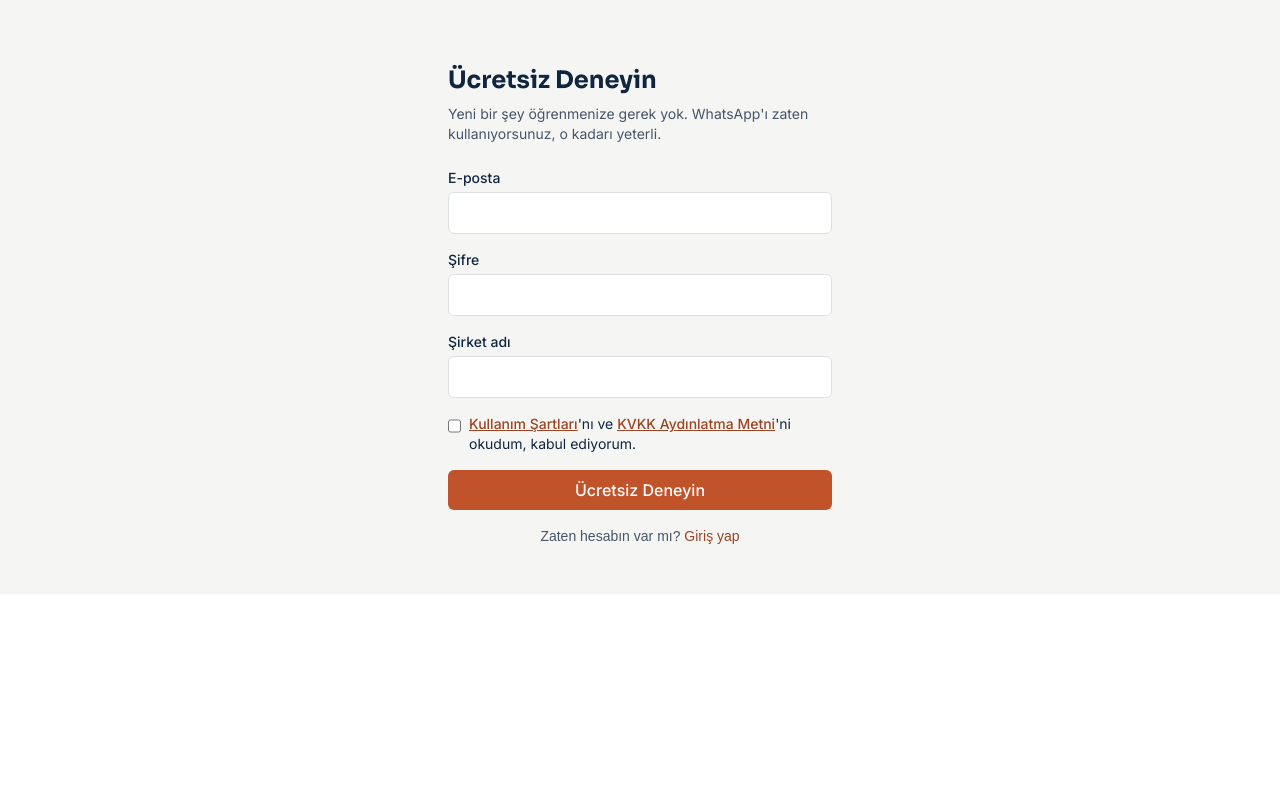
SignupPage — KVKK/Şartlar onay kutusu (AC-2) › şartlar işaretsizken gönderim reddedilir ve hata checkbox'a aria-describedby ile bağlı gösterilir
Type "test@example.com" into the field labelled "E-posta" at point(640, 213), box x1=448 y1=192 x2=832 y2=234
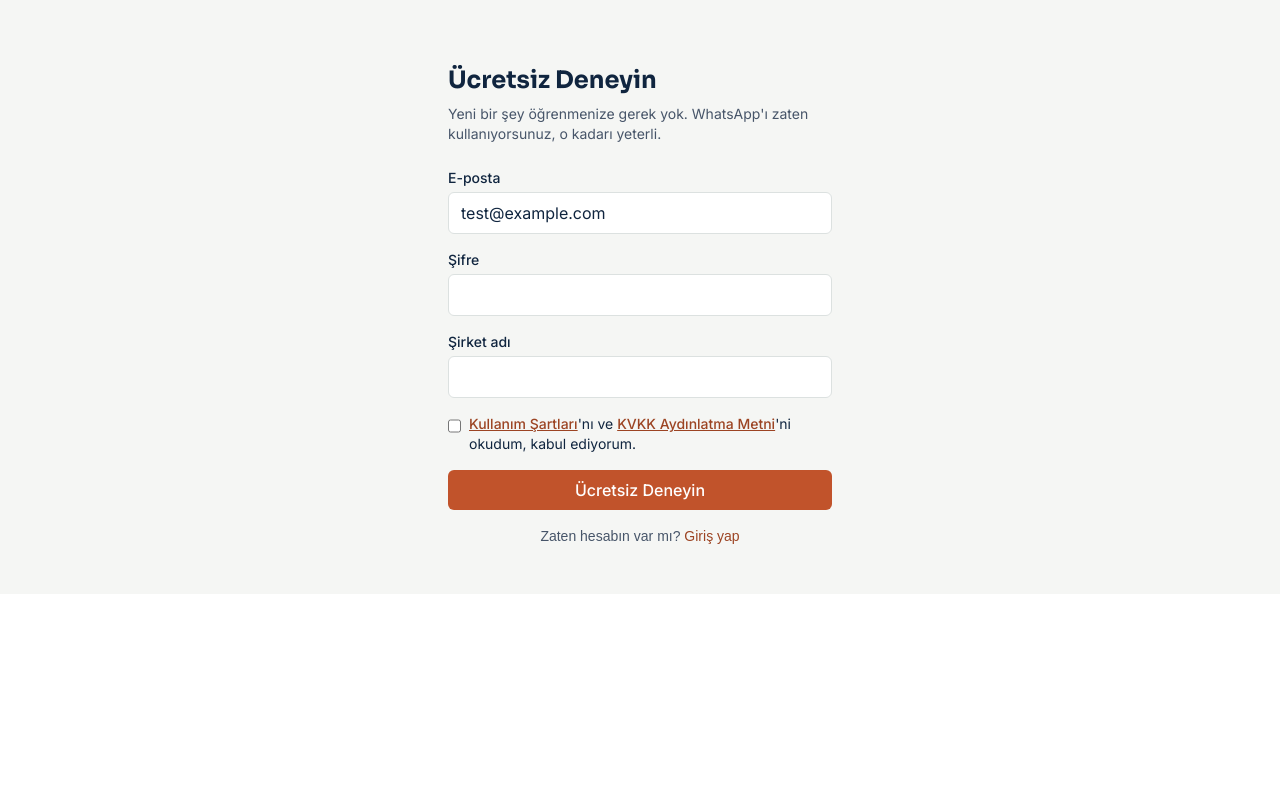
Type "sifre123" into the password field labelled "Şifre" at point(640, 295), box x1=448 y1=274 x2=832 y2=316
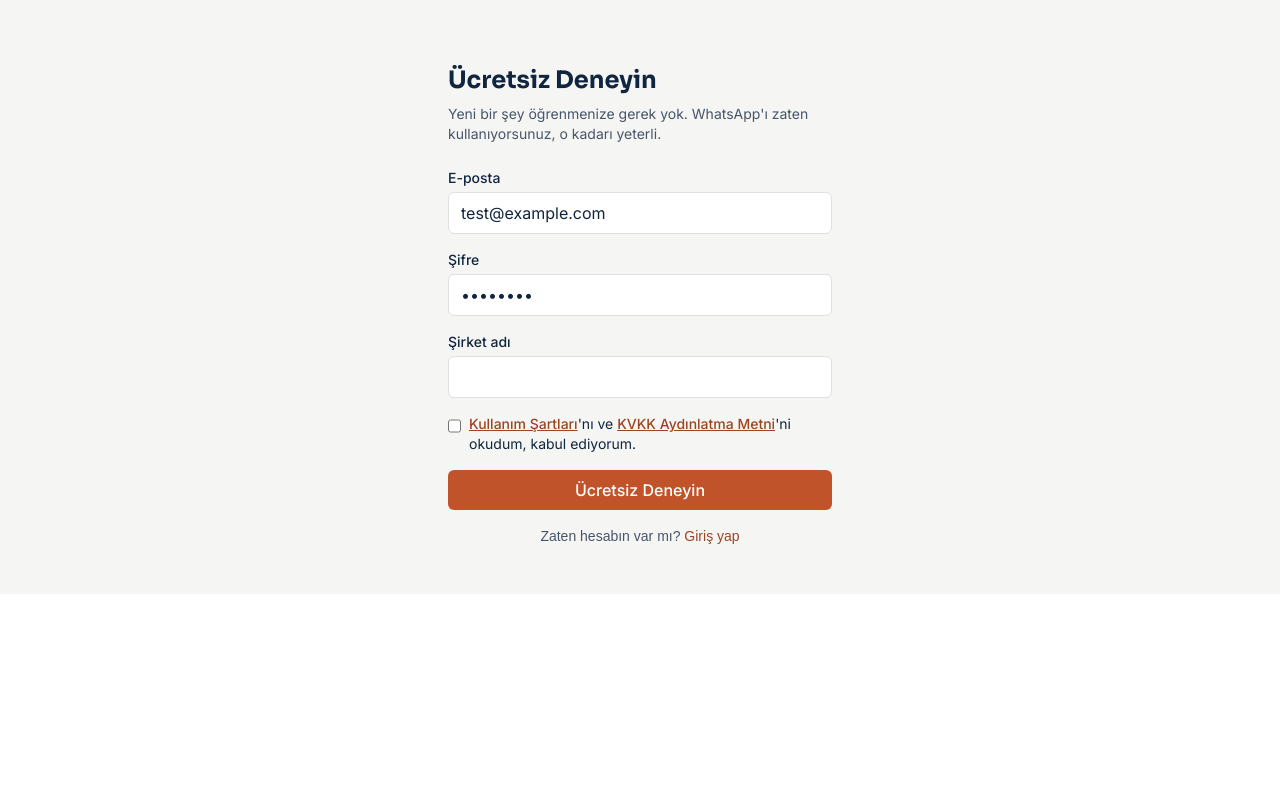
Type "Acme Emlak" into the field labelled "Şirket adı" at point(640, 377), box x1=448 y1=356 x2=832 y2=398
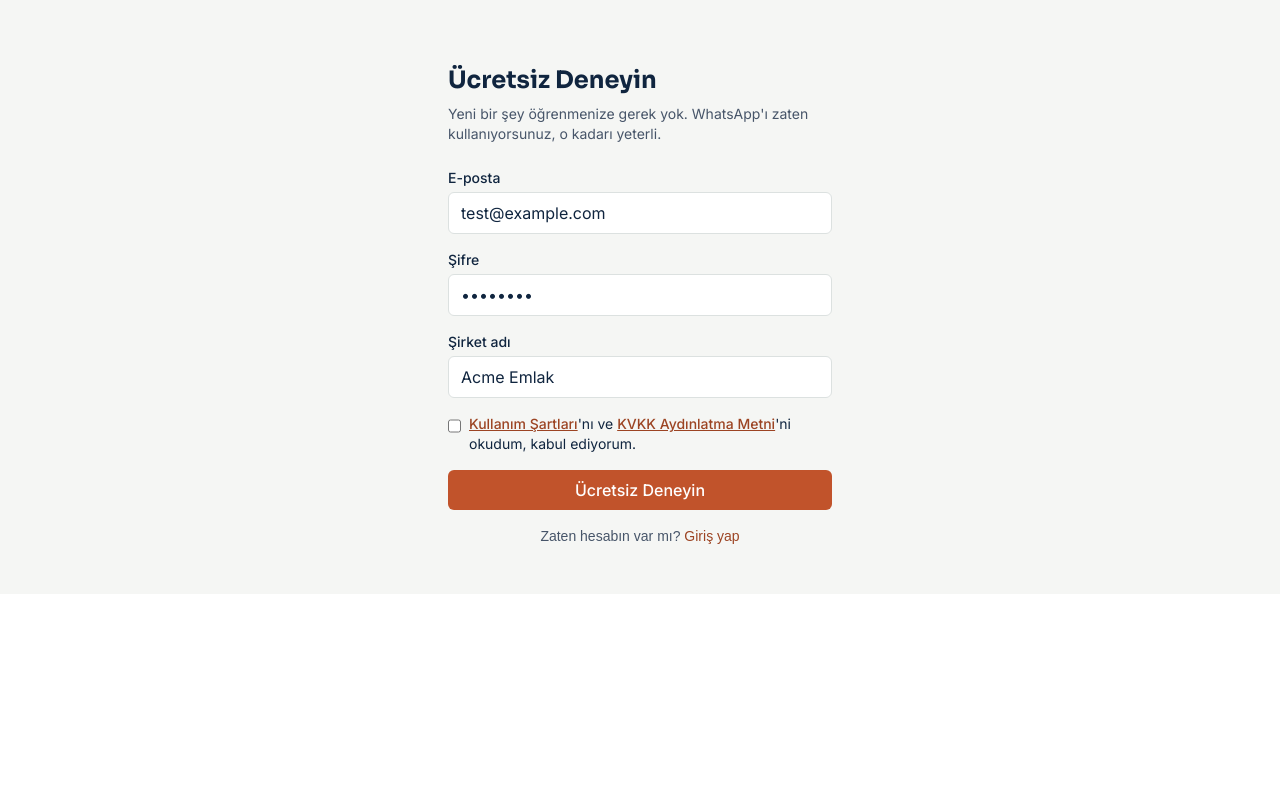
Click the button "Ücretsiz Deneyin" at point(640, 490), box x1=448 y1=470 x2=832 y2=510
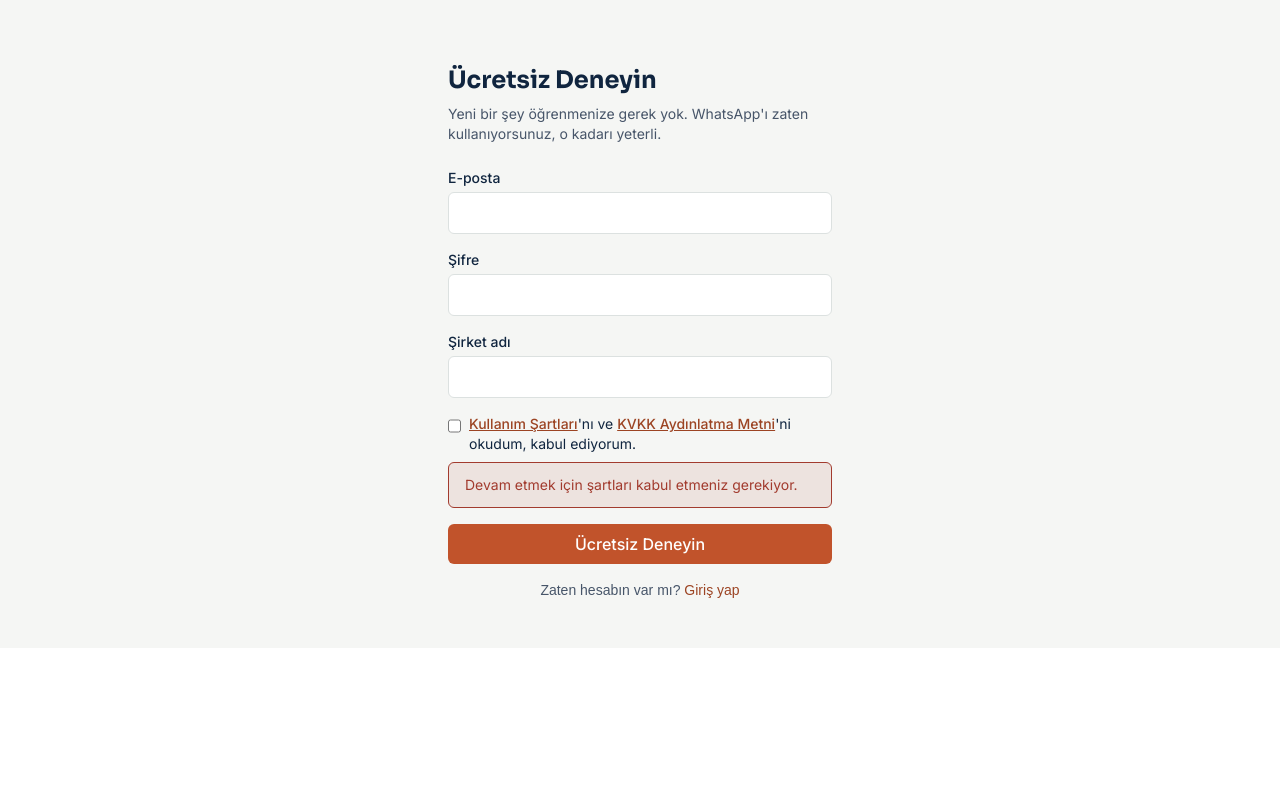
Result: the text "Devam etmek için şartları kabul etmeniz gerekiyor." is shown at x1=448 y1=462 x2=832 y2=508
